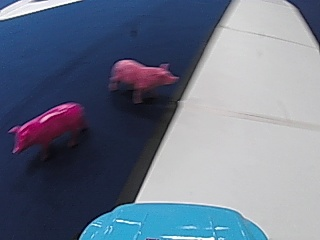pig: (3, 98, 87, 153), (109, 56, 177, 102)
